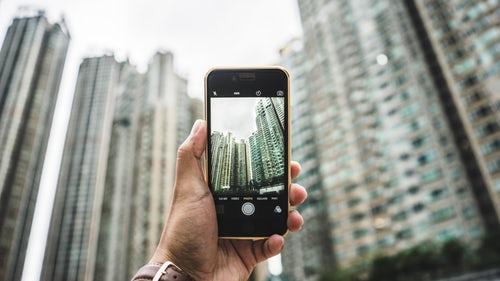phone: (203, 68, 296, 241)
